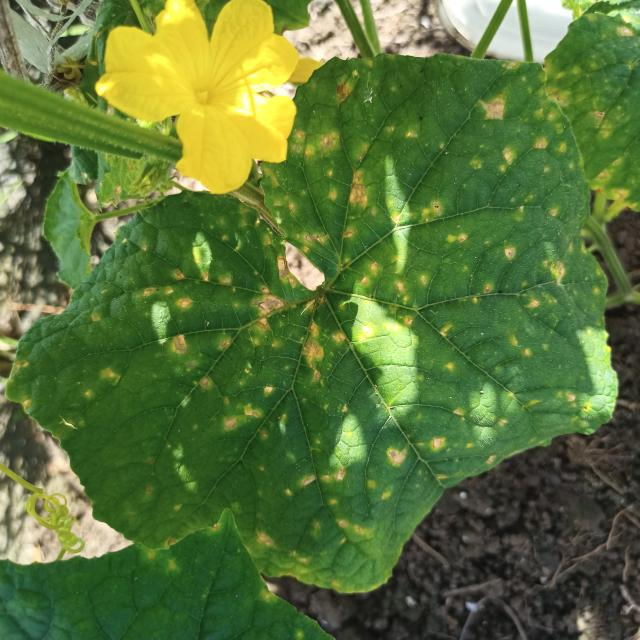disease_cucumber: (51, 68, 598, 583)
